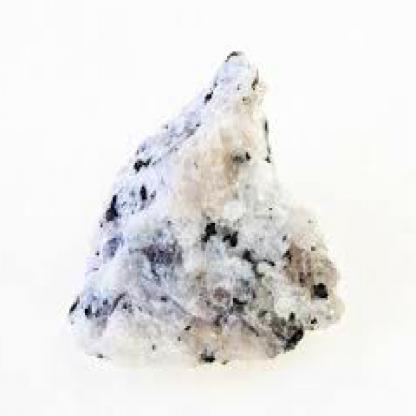Igneous_Diorite: (54, 32, 357, 369)
